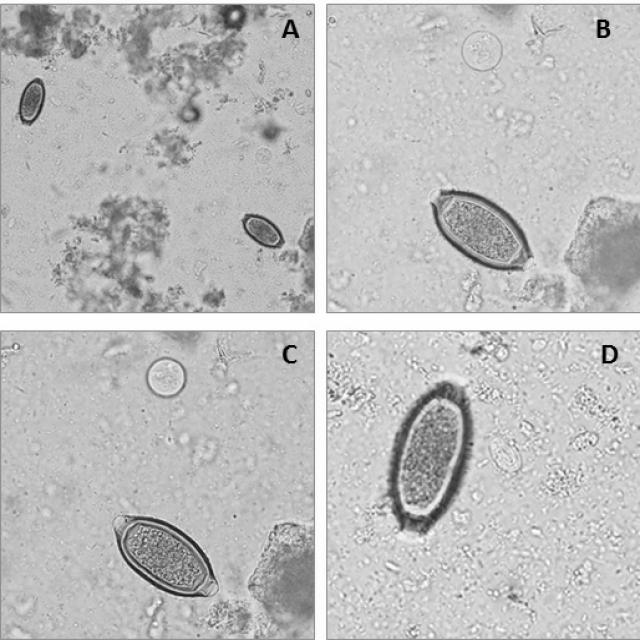Trichuris Trichiura: (382, 370, 478, 544), (105, 510, 222, 605), (419, 187, 539, 272), (237, 207, 290, 253), (16, 72, 49, 129)
